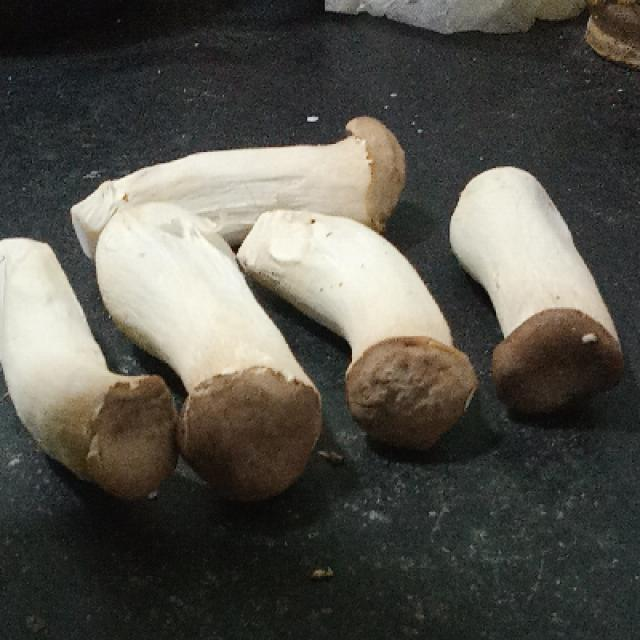Pleurotus eryngii: (99, 201, 322, 483), (239, 211, 479, 444), (2, 233, 181, 489), (450, 168, 624, 418), (68, 117, 404, 246)
